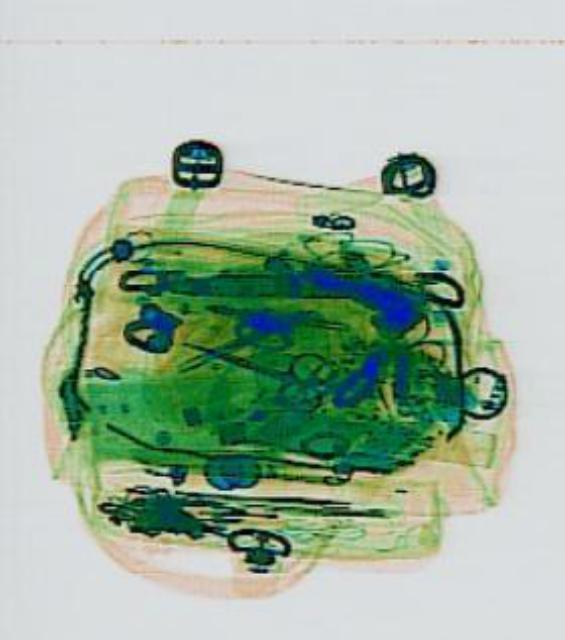Scissors: (165, 306, 336, 418)
Wrench: (115, 257, 464, 307)
